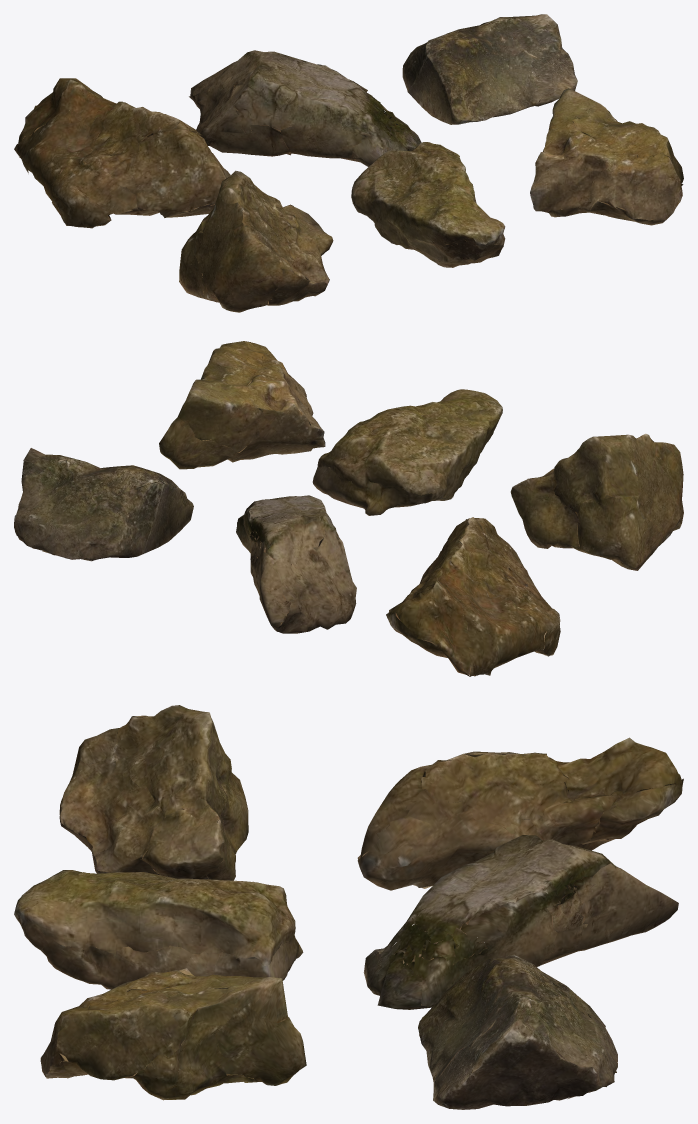
The model's file is rock_moss_set_01.glb.
3 renders of one model, top to bottom at view 1: azimuth 30°, elevation 25°; view 2: azimuth 150°, elevation 25°; view 3: azimuth 270°, elevation 25°, orthographic. The views are drawn at different scales.
Visible parts, largest first — view 1: rock_moss_set_01_rock01, rock_moss_set_01_rock02, rock_moss_set_01_rock06, rock_moss_set_01_rock04, rock_moss_set_01_rock03, rock_moss_set_01_rock05; view 2: rock_moss_set_01_rock04, rock_moss_set_01_rock01, rock_moss_set_01_rock05, rock_moss_set_01_rock03, rock_moss_set_01_rock06, rock_moss_set_01_rock02; view 3: rock_moss_set_01_rock01, rock_moss_set_01_rock02, rock_moss_set_01_rock05, rock_moss_set_01_rock04, rock_moss_set_01_rock06, rock_moss_set_01_rock03.
Part boxes in pixels (x1,y1,x2,y2): rock_moss_set_01_rock01: [14, 78, 230, 228]; rock_moss_set_01_rock02: [189, 50, 421, 166]; rock_moss_set_01_rock06: [530, 88, 683, 225]; rock_moss_set_01_rock04: [179, 170, 333, 312]; rock_moss_set_01_rock03: [402, 14, 577, 124]; rock_moss_set_01_rock05: [351, 142, 505, 267]; rock_moss_set_01_rock04: [510, 433, 683, 570]; rock_moss_set_01_rock01: [386, 517, 560, 676]; rock_moss_set_01_rock05: [312, 389, 502, 515]; rock_moss_set_01_rock03: [14, 448, 193, 561]; rock_moss_set_01_rock06: [159, 341, 325, 469]; rock_moss_set_01_rock02: [236, 495, 356, 633]; rock_moss_set_01_rock01: [357, 737, 683, 890]; rock_moss_set_01_rock02: [363, 835, 678, 1009]; rock_moss_set_01_rock05: [14, 870, 303, 989]; rock_moss_set_01_rock04: [59, 705, 248, 880]; rock_moss_set_01_rock06: [40, 968, 306, 1100]; rock_moss_set_01_rock03: [418, 954, 617, 1109].
Bounding box in the file's own units: 1.6 × 0.3547 × 1.39.
1 material, 1 textured.
